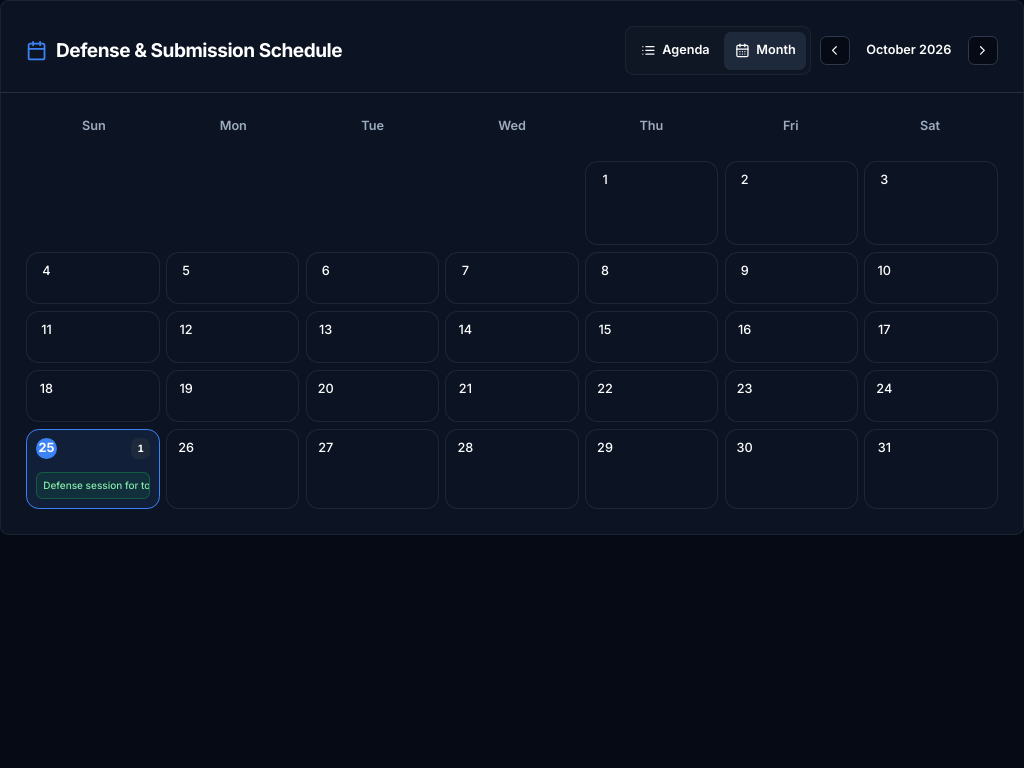
DefenseScheduleCalendar Component › shows and closes the selected day session details in month view
The image size is (1024, 768).
Click the button "25 1 Defense session for today" at (93, 469), box [26,429,160,509]
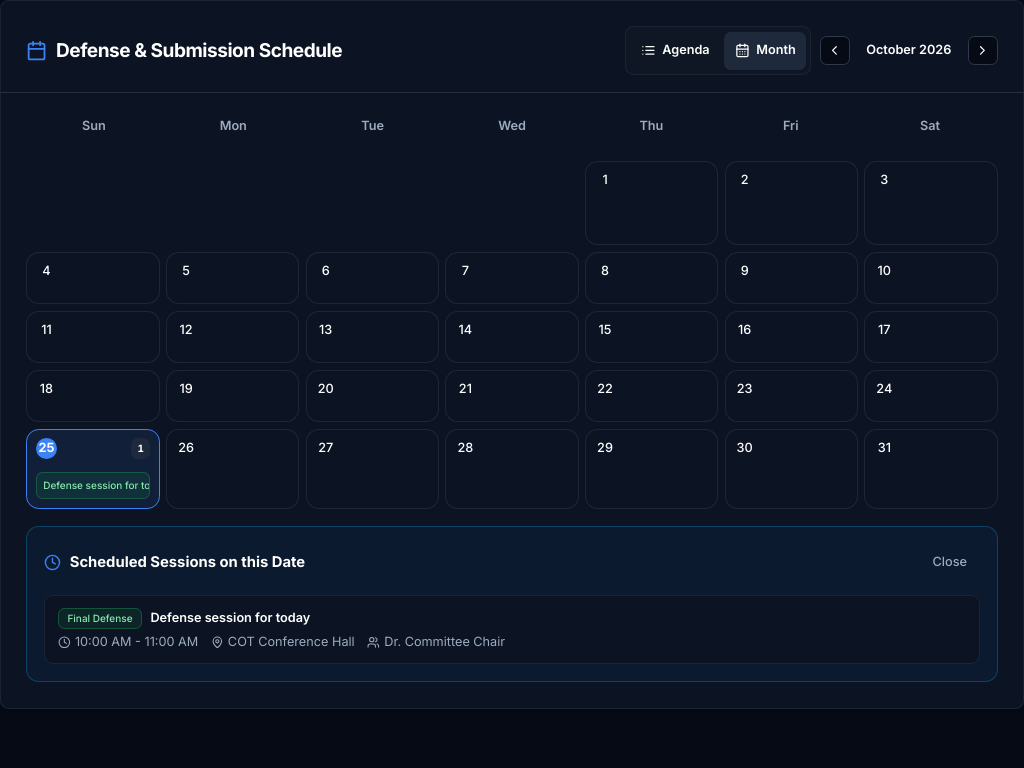
Check: the text "Scheduled Sessions on this Date" is shown, box [44,552,305,573]
Check: the text "Dr. Committee Chair" is shown, box [367,634,505,651]
Check: the button with aria-label "Close scheduled sessions" is shown
Click the button with aria-label "Close scheduled sessions" at (950, 563), box [920,544,980,582]
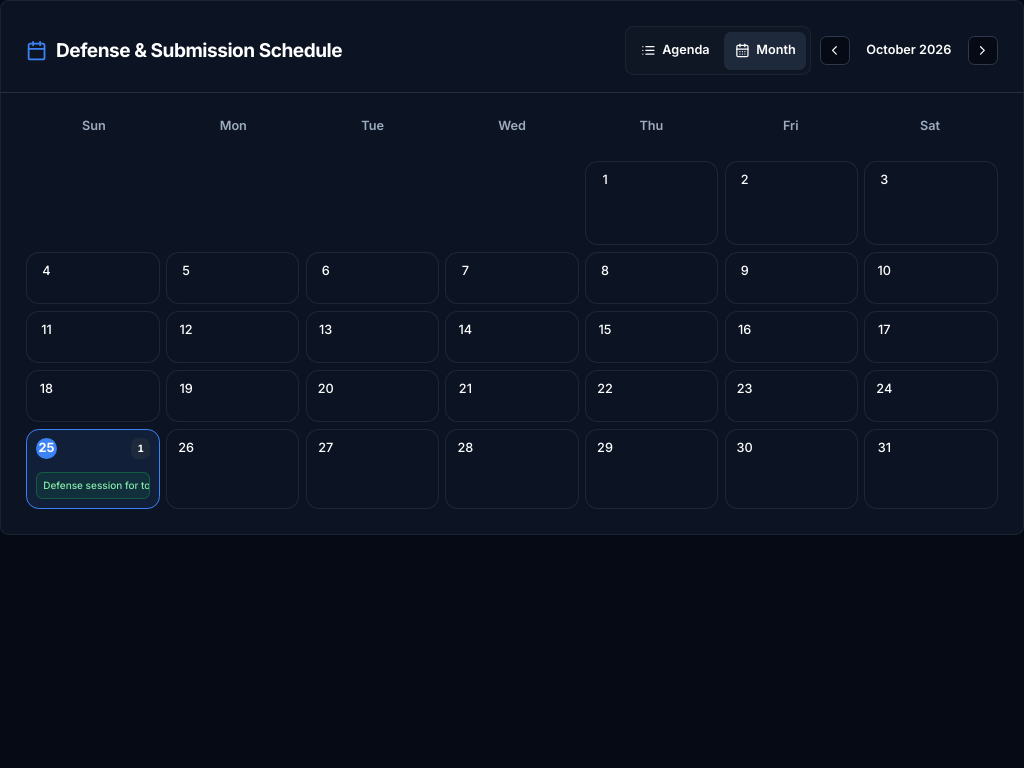
Check: the text "Scheduled Sessions on this Date" is gone
